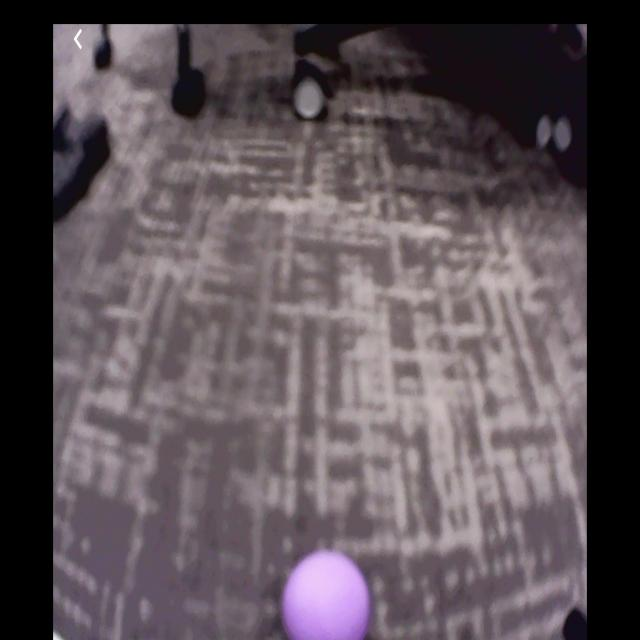ball: (283, 550, 371, 640)
